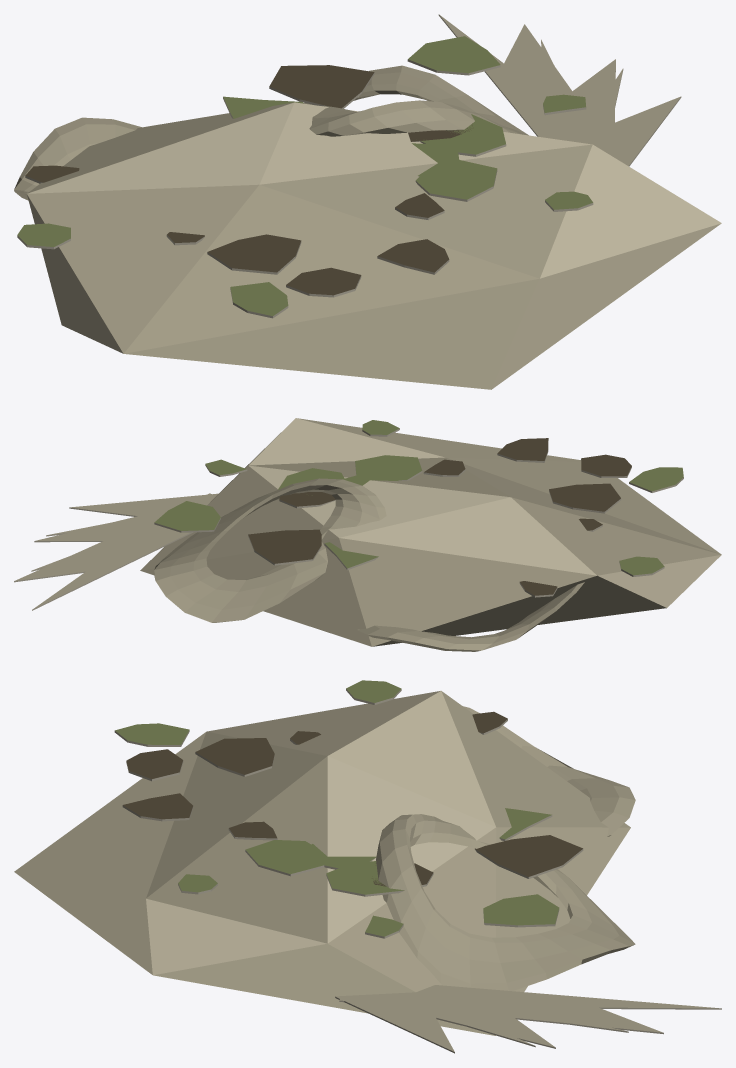
File: Bag_Shredded_Muddy.glb
3 renders of one model, top to bottom at view 1: azimuth 30°, elevation 25°; view 2: azimuth 150°, elevation 25°; view 3: azimuth 270°, elevation 25°, orthographic. The views are drawn at different scales.
Parts seen in each view (by area): view 1: Litter; view 2: Litter; view 3: Litter.
Part boxes in pixels (x1,y1,x2,y2): Litter: (14, 14, 721, 389); Litter: (14, 418, 721, 651); Litter: (14, 680, 721, 1053).
Size of the model in its own units: 0.4945 by 0.0863 by 0.4672.
